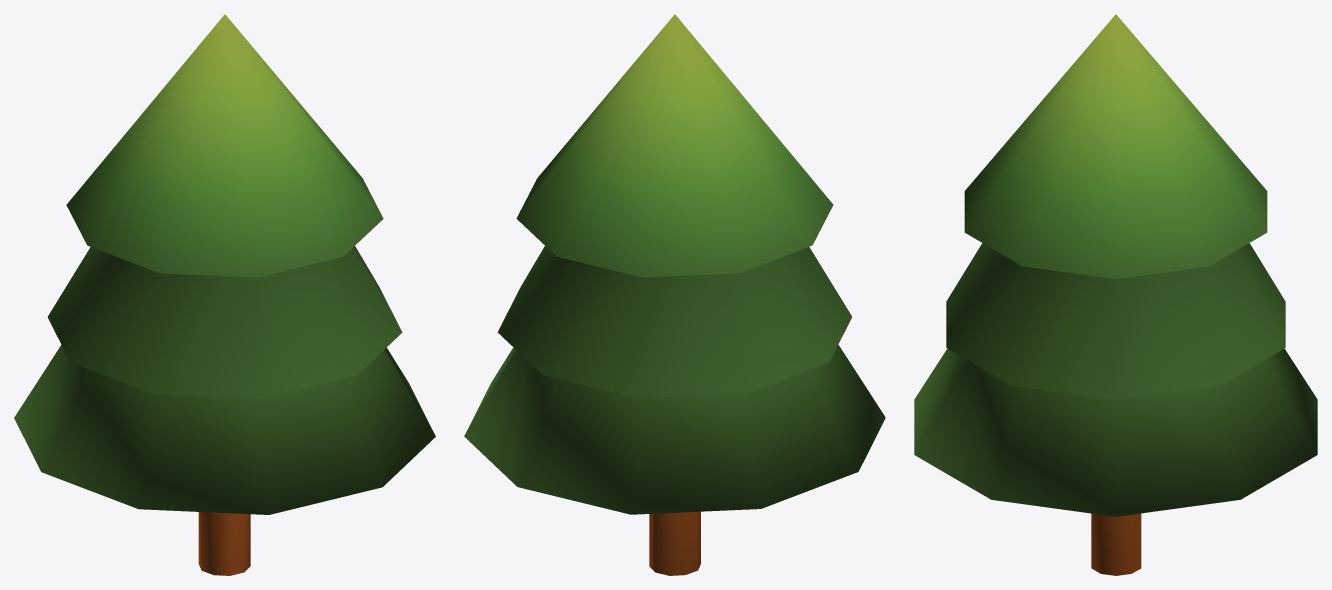
The model's file is Outer tree8.fbx.
3 renders of one model, left to right at view 1: azimuth 30°, elevation 25°; view 2: azimuth 150°, elevation 25°; view 3: azimuth 270°, elevation 25°, orthographic.
Parts seen in each view (by area): view 1: Outer_tree8; view 2: Outer_tree8; view 3: Outer_tree8.
Boxes of the visible parts, x1,y1,x2,y2 form: Outer_tree8: [14, 14, 435, 575]; Outer_tree8: [464, 14, 885, 575]; Outer_tree8: [914, 14, 1317, 575].
Size of the model in its own units: 229 by 328 by 218.
Materials: 1 (1 with a texture image).
